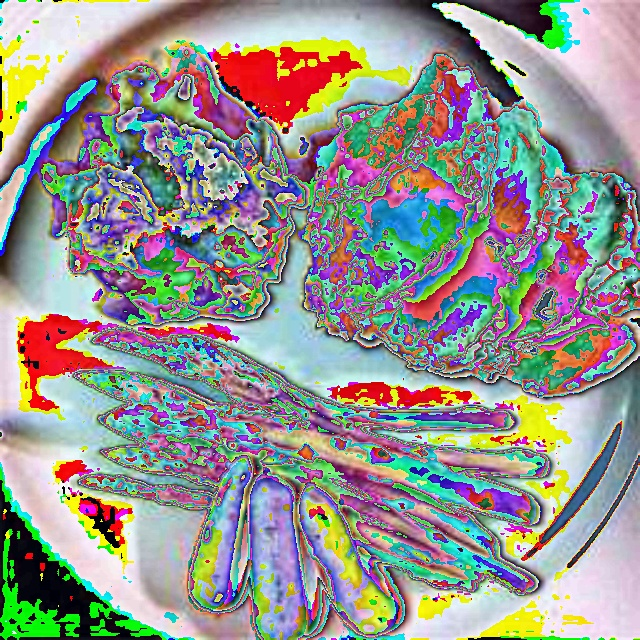background: (38, 45, 639, 639)
